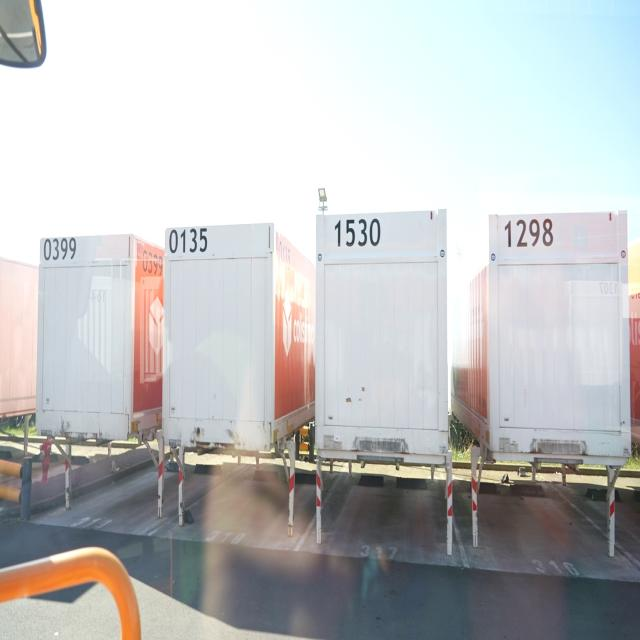Code: (505, 216, 555, 257), (333, 214, 382, 252), (40, 232, 80, 262), (168, 226, 208, 256), (139, 245, 163, 280)
